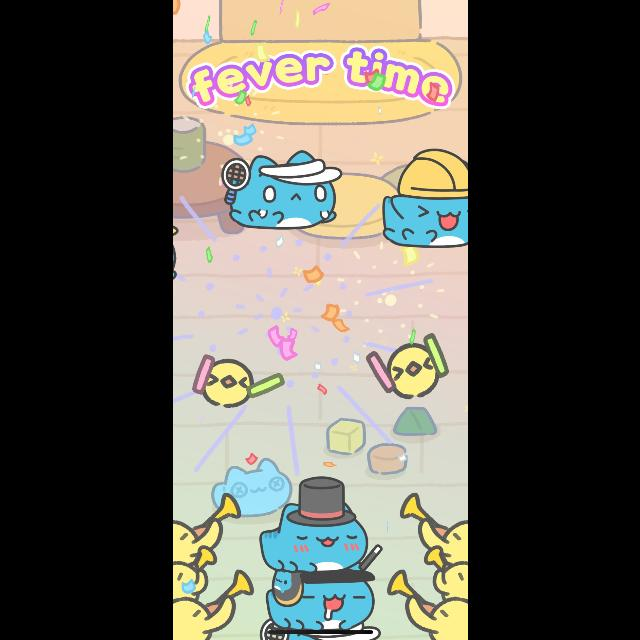capoo: (256, 473, 382, 579), (220, 150, 342, 234), (377, 148, 467, 248), (266, 570, 378, 638)
